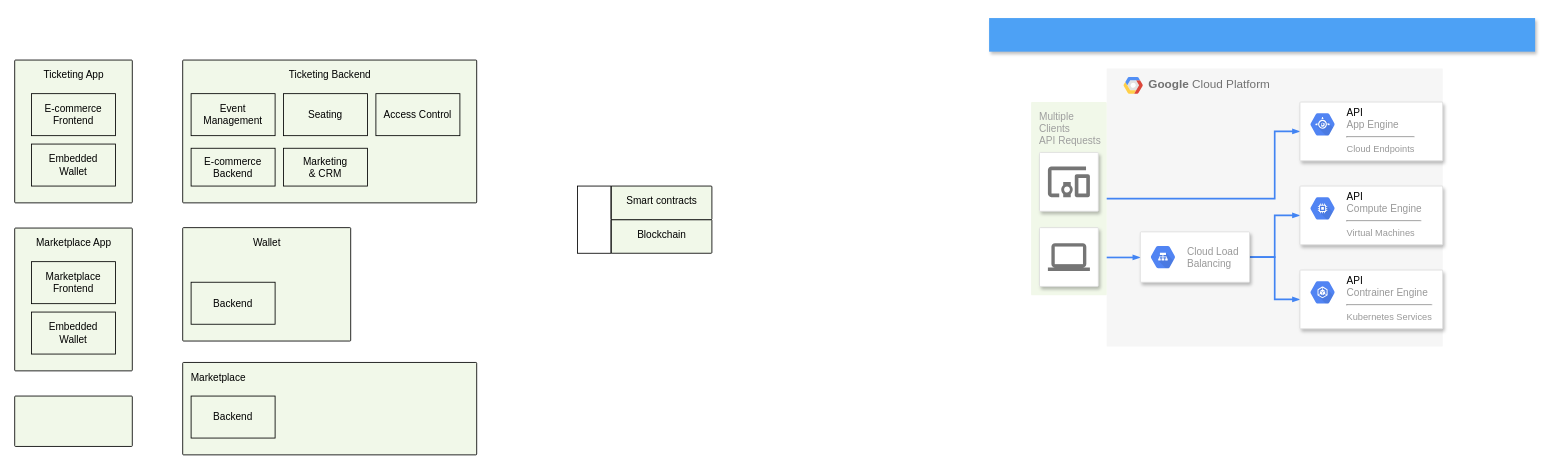
This 1555x470 diagram has some shape labels left out. The shapes that lost their labels are listed below. From the top down, each one's centre as x and y in pixels, then its label:
At [1262,35]: "Architecture: Backup and Archive > API Hosting".
At [594,219]: "API".
At [73,420]: "Access Control App".
